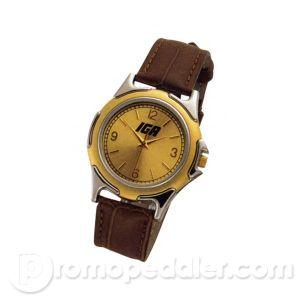watch: (93, 91, 197, 207)
